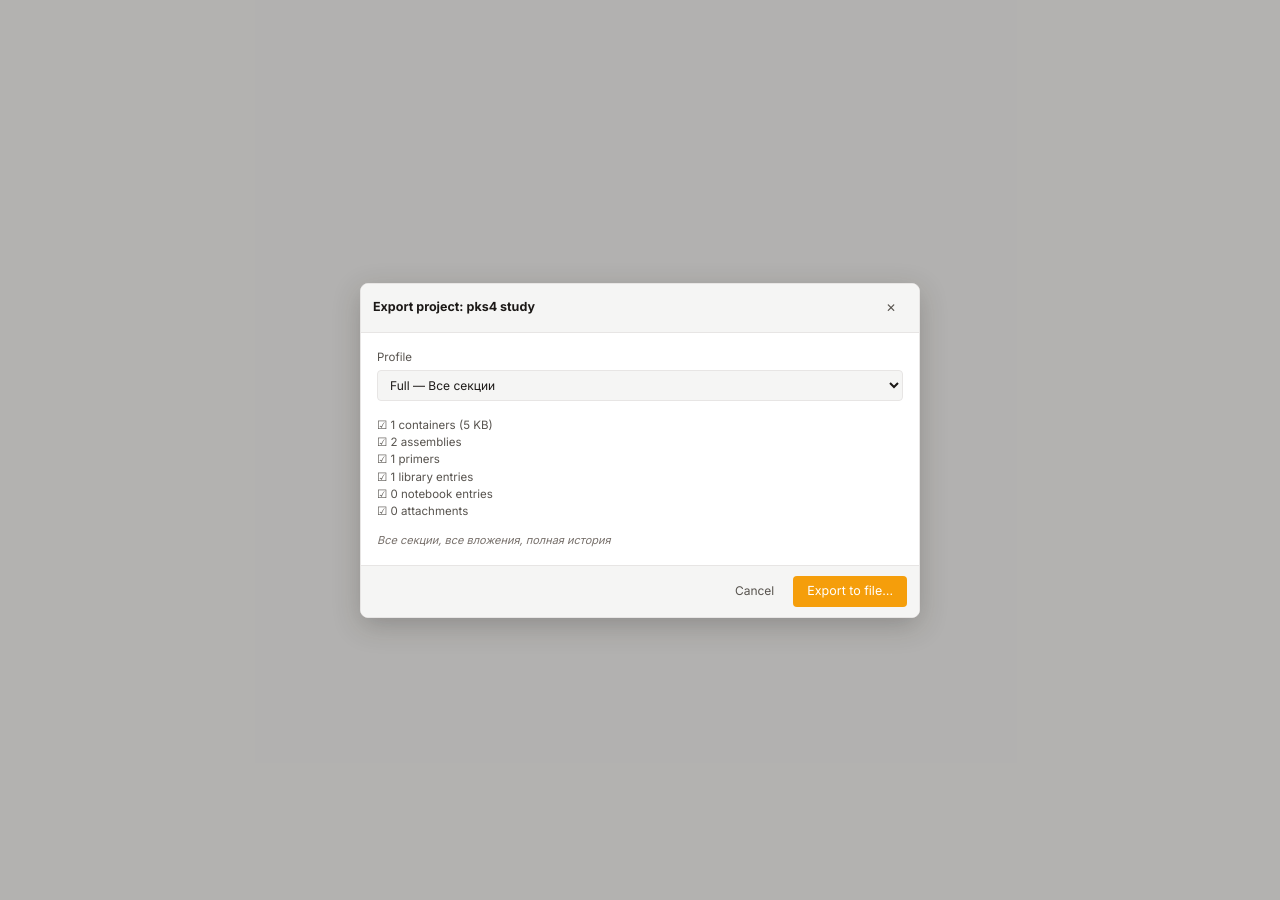
Scenario: K10 — ExportProjectModal › reveals assembly select when single-assembly profile chosen
Select "Single assembly — Одна выбранная сборка" in the dropdown with test id "export-profile-select" at [640, 385], box [377,370,903,401]
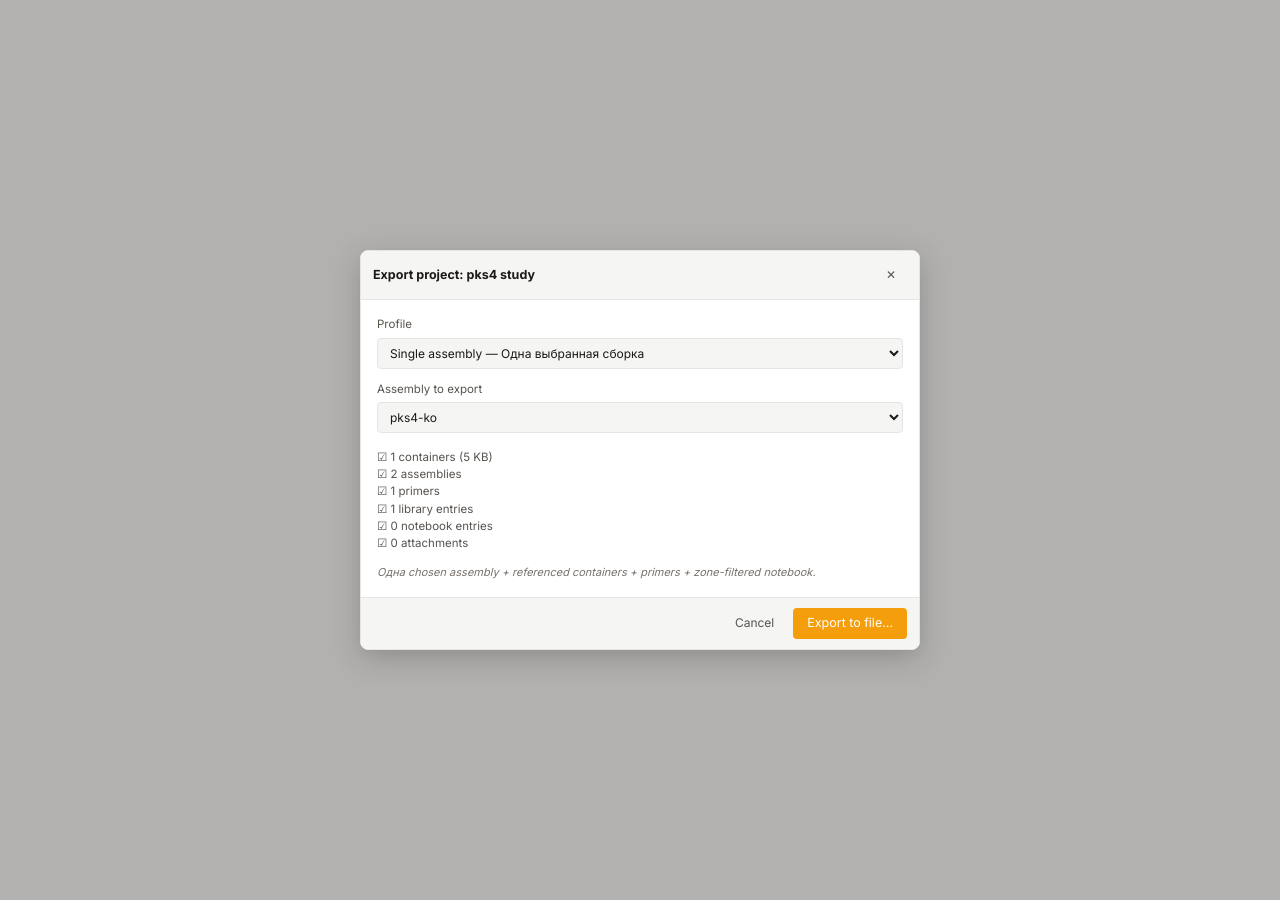
expect the dropdown with test id "export-assembly-select" is shown: met, box [377,402,903,433]
